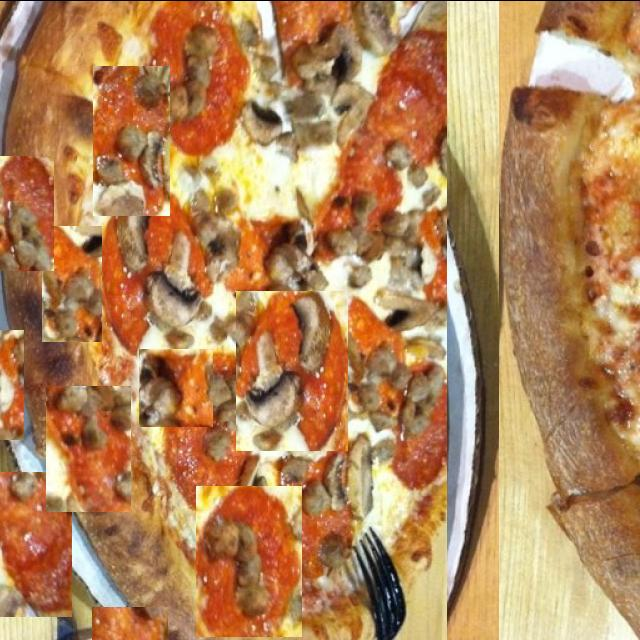pepperoni: (236, 290, 348, 450), (196, 485, 302, 636), (198, 127, 278, 291), (93, 65, 170, 215), (46, 385, 131, 511), (0, 471, 72, 616), (42, 225, 102, 341), (0, 155, 54, 270), (139, 348, 213, 426), (136, 303, 206, 359), (0, 329, 24, 439), (92, 606, 168, 640)
pizza: (0, 0, 447, 640), (499, 0, 640, 640)
